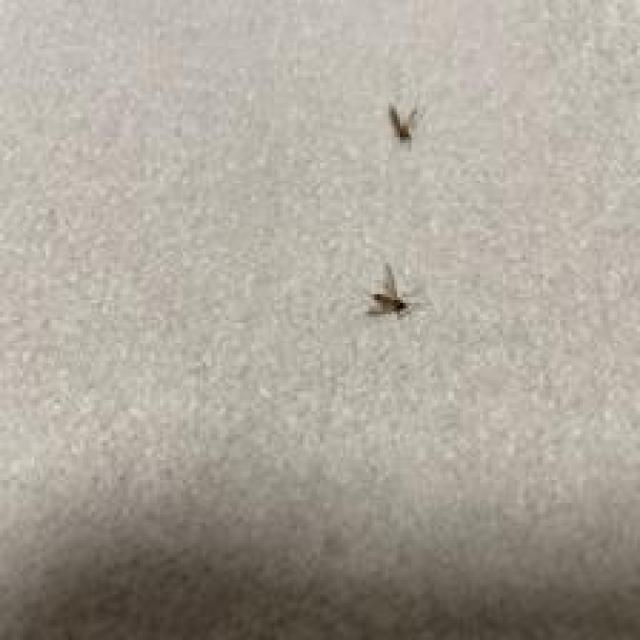Culex: (366, 262, 414, 318)
